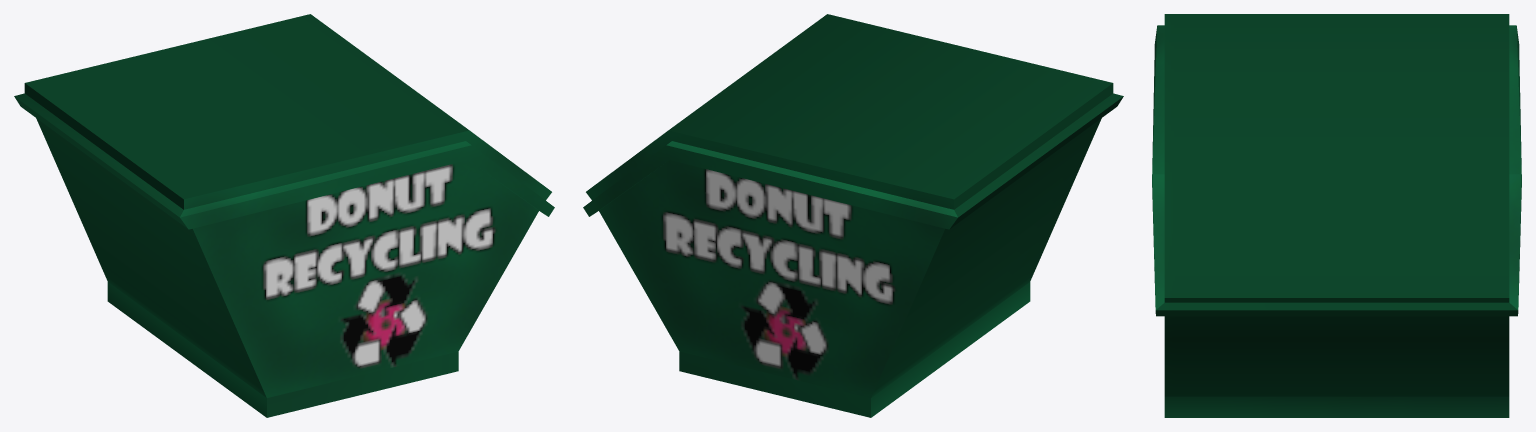
The model's file is Trash_container.FBX.
3 renders of one model, left to right at view 1: azimuth 30°, elevation 25°; view 2: azimuth 150°, elevation 25°; view 3: azimuth 270°, elevation 25°, orthographic. The views are drawn at different scales.
Parts seen in each view (by area): view 1: Trash_container; view 2: Trash_container; view 3: Trash_container.
Boxes of the visible parts, <box> form: Trash_container: <box>14,14,554,417</box>; Trash_container: <box>583,14,1123,417</box>; Trash_container: <box>1152,14,1521,417</box>.
Size of the model in its own units: 20.46 by 12.42 by 16.08.
